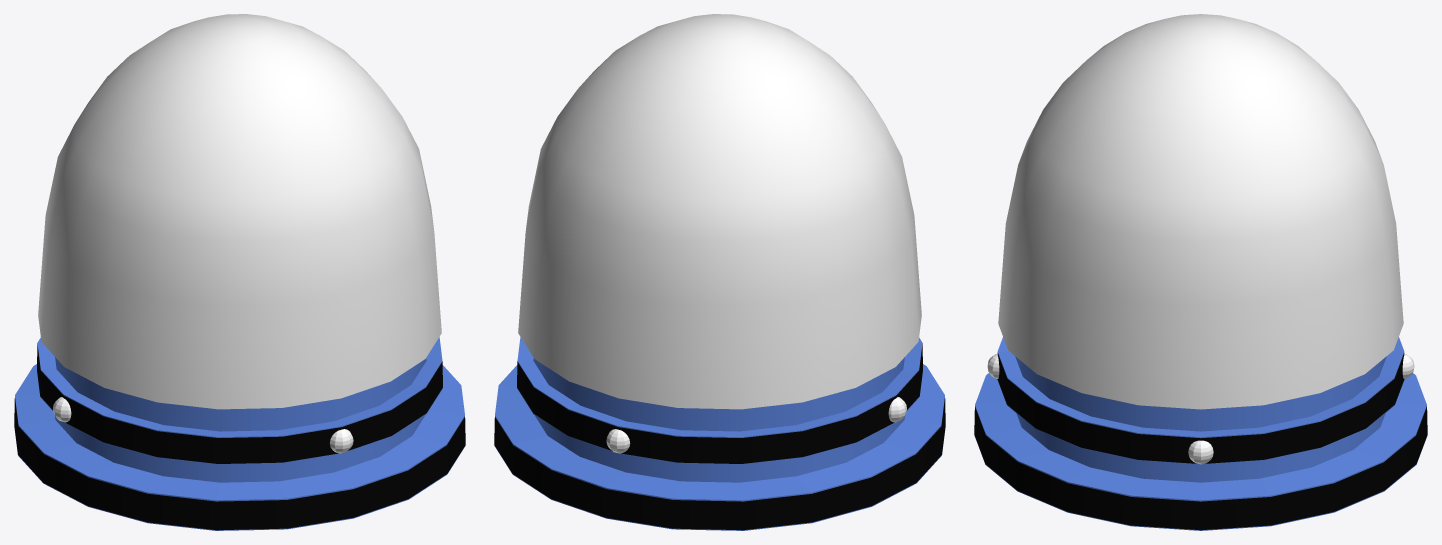
Rendered from light.fbx.
The picture shows the model from 3 angles, left to right: view 1: azimuth 30°, elevation 25°; view 2: azimuth 150°, elevation 25°; view 3: azimuth 270°, elevation 25°; orthographic projection.
Visible parts, largest first — view 1: pSphere6; view 2: pSphere6; view 3: pSphere6.
Part boxes in pixels (box(x1,y1,x2,y2)): pSphere6: box(14, 14, 465, 530); pSphere6: box(494, 14, 945, 530); pSphere6: box(974, 14, 1427, 530).
Bounding box in the file's own units: 2.26 × 2.24 × 2.26.
